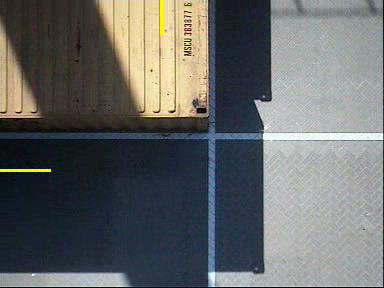groundmarker_2: (121, 189, 233, 256)
